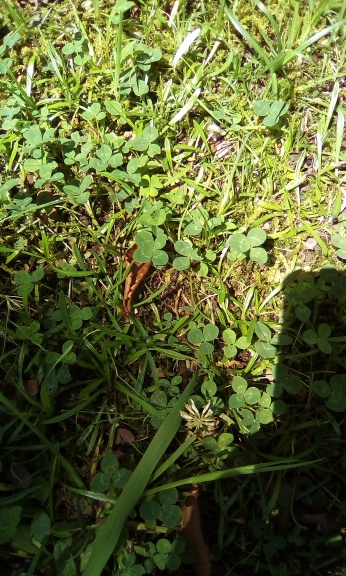4leaf: (133, 231, 169, 265)
